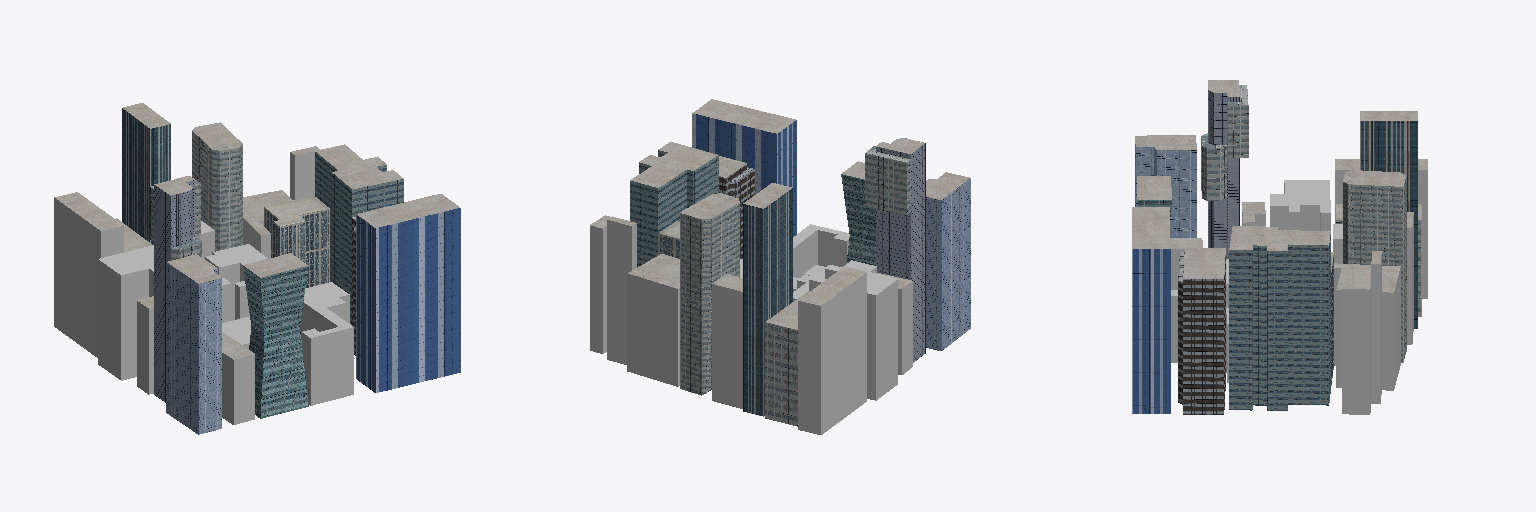
3 views of the same model, side by side, from view 1: azimuth 30°, elevation 25°; view 2: azimuth 150°, elevation 25°; view 3: azimuth 270°, elevation 25° (orthographic).
Bounding box in the file's own units: 83.72 × 69.92 × 80.85.
Materials: 14 (10 with a texture image).